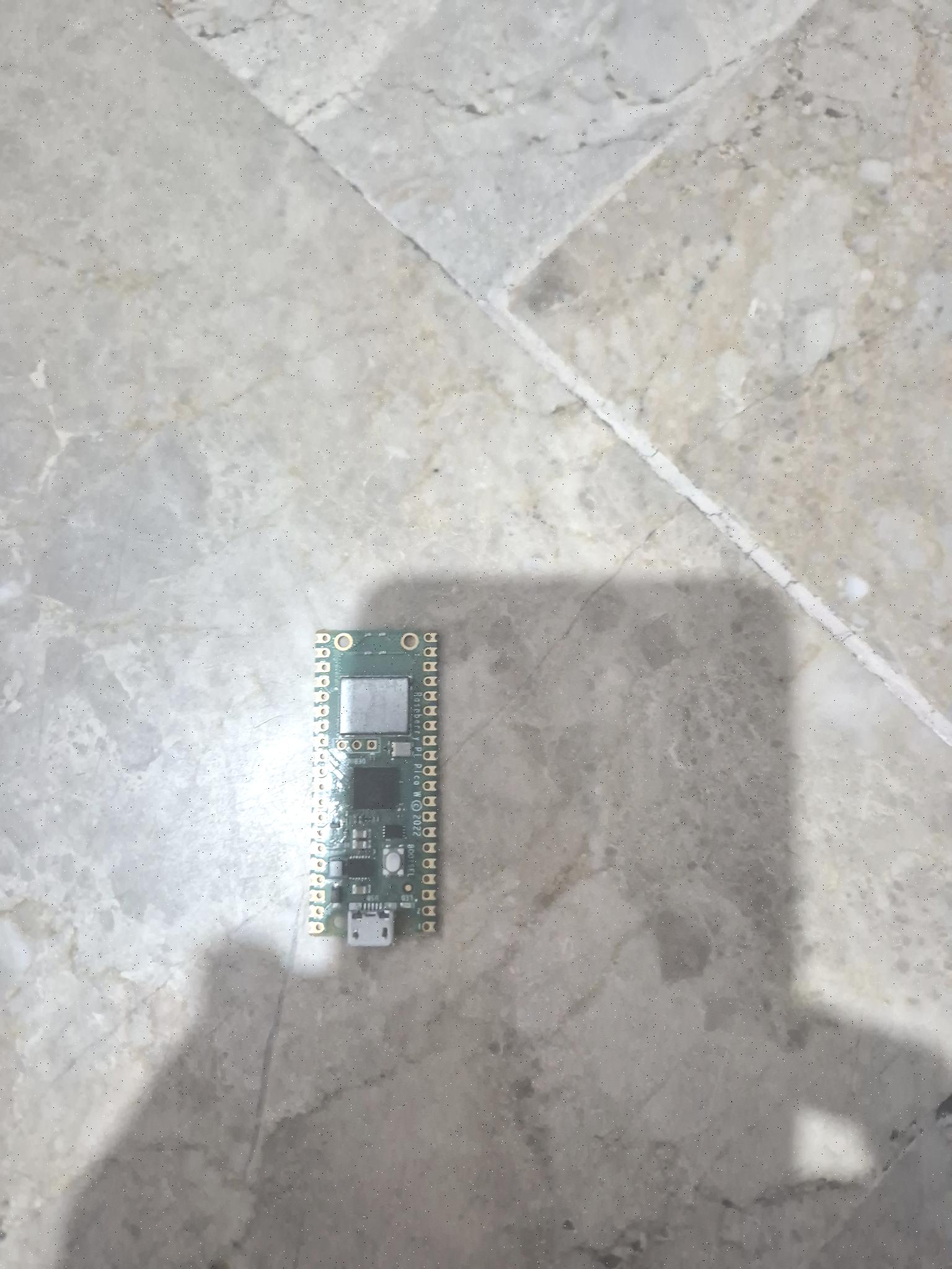raspberry-pi-pico-w: (306, 623, 455, 962)
